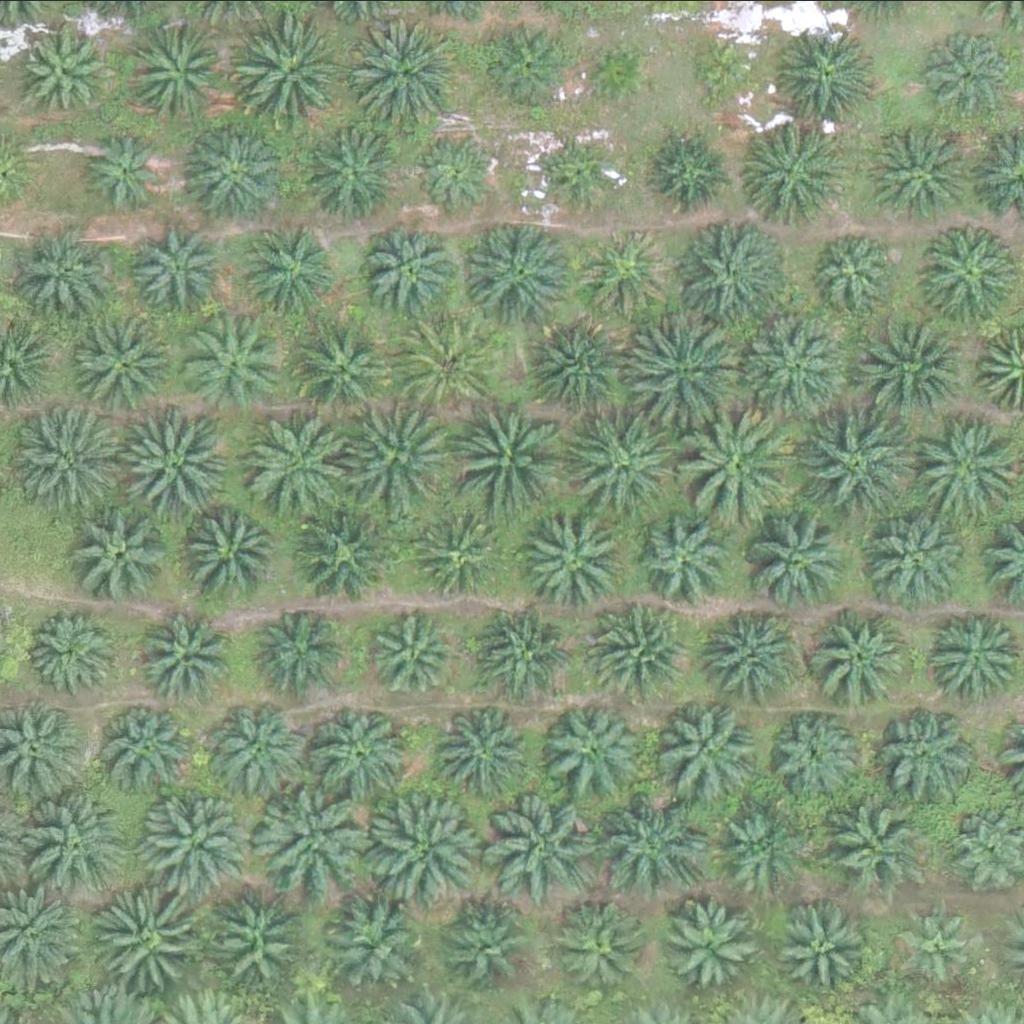Kelapa_Sawit: (19, 785, 133, 898), (569, 410, 683, 523), (341, 401, 455, 514), (13, 404, 126, 517), (800, 406, 913, 519), (348, 17, 461, 130), (236, 16, 349, 129), (249, 407, 362, 520), (120, 401, 233, 514), (369, 793, 482, 906), (253, 780, 366, 893), (139, 789, 252, 902), (737, 306, 851, 418), (444, 400, 558, 512), (98, 886, 211, 998), (596, 793, 709, 905), (683, 409, 796, 521), (631, 319, 744, 431), (852, 314, 965, 426), (672, 216, 785, 328), (462, 217, 575, 329), (485, 787, 598, 899), (321, 893, 434, 1005), (70, 502, 171, 602), (14, 217, 115, 317), (775, 896, 876, 996), (656, 894, 757, 994), (547, 898, 648, 998), (708, 799, 809, 899), (819, 796, 920, 896), (542, 702, 643, 802), (810, 604, 911, 704), (586, 603, 687, 703), (637, 506, 738, 606), (747, 508, 848, 608), (914, 222, 1015, 322), (878, 120, 979, 220), (776, 29, 877, 129), (129, 22, 230, 122), (189, 124, 290, 224), (302, 122, 403, 222), (361, 220, 462, 320), (179, 314, 280, 414), (289, 317, 390, 417), (474, 601, 575, 701), (307, 702, 408, 802), (433, 704, 534, 804), (213, 884, 314, 984), (102, 699, 202, 799), (72, 310, 172, 410), (661, 697, 761, 797), (878, 706, 978, 806), (697, 596, 797, 696), (528, 512, 628, 612), (865, 509, 965, 609), (532, 316, 632, 416), (740, 123, 840, 223), (398, 311, 498, 411), (180, 500, 280, 600), (294, 500, 394, 600), (245, 597, 345, 697), (136, 605, 236, 705), (209, 696, 309, 796), (23, 607, 111, 695), (21, 30, 109, 118), (415, 129, 503, 217), (247, 226, 335, 314), (138, 227, 226, 315), (413, 513, 501, 601), (375, 611, 463, 699), (442, 903, 530, 991), (894, 906, 983, 993), (85, 131, 173, 218), (580, 227, 668, 314), (772, 710, 860, 797), (814, 223, 902, 310), (644, 128, 732, 215), (921, 30, 1009, 117), (487, 24, 575, 111), (579, 36, 655, 111), (687, 32, 763, 107), (550, 130, 625, 205)
